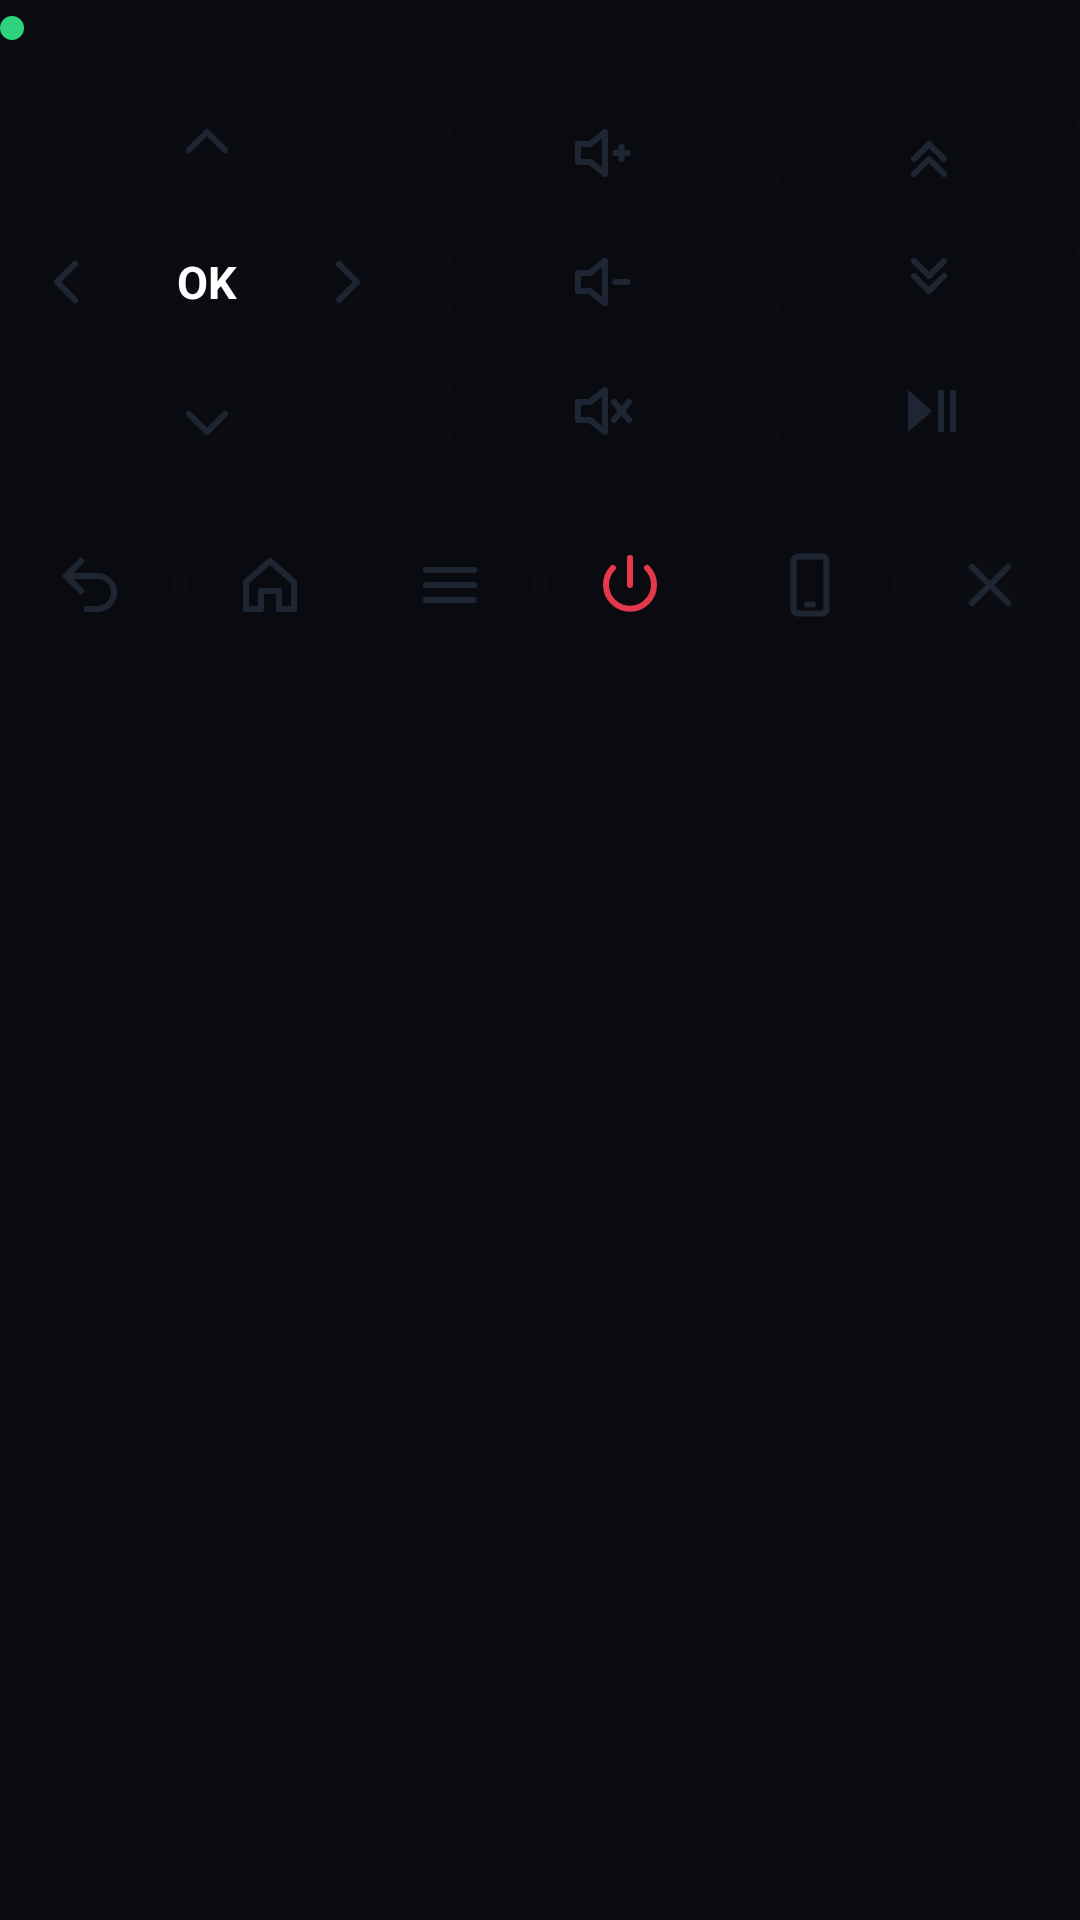

Named icons in this screenshot (1080px×1920px) and their bounding boxes, (x1, y1, x2, y2):
افتح التطبيق: (791, 554, 829, 616)
الرئيسية: (243, 558, 297, 612)
القائمة: (423, 567, 477, 603)
تحت: (186, 411, 228, 435)
تشغيل: (603, 555, 657, 612)
تشغيل/إيقاف: (908, 390, 956, 432)
رجوع: (63, 558, 117, 612)
شمال: (54, 261, 78, 303)
صوت +: (575, 129, 630, 177)
صوت -: (575, 258, 630, 306)
فوق: (186, 129, 228, 153)
قفل: (969, 564, 1011, 606)
قناة +: (911, 141, 947, 177)
قناة -: (911, 258, 947, 294)
كتم: (575, 387, 632, 435)
يمين: (336, 261, 360, 303)
